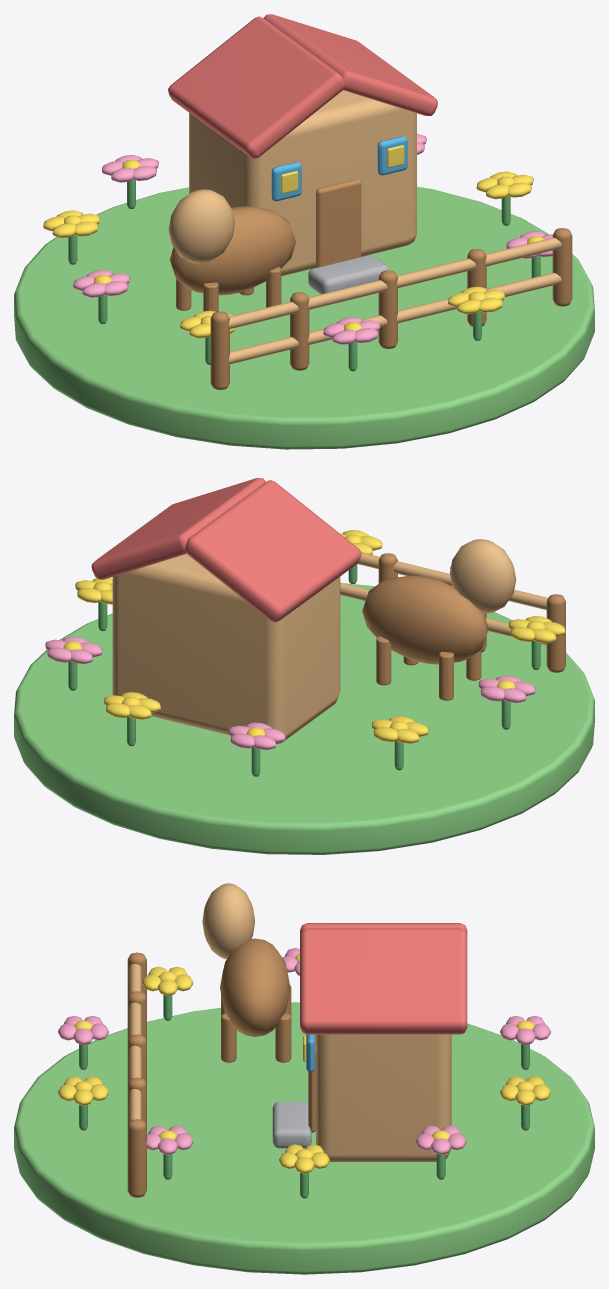
Rendered from region_stable.glb.
The picture shows the model from 3 angles, top to bottom: view 1: azimuth 30°, elevation 25°; view 2: azimuth 150°, elevation 25°; view 3: azimuth 270°, elevation 25°; orthographic projection.
Parts seen in each view (by area): view 1: round grassy plot, rounded plaster walls, overlapping roof tiles, pony torso, overlapping roof tiles.001, paddock rail.001, pony head, arched entry, paddock rail, stone threshold, paddock post, paddock post.004 (+6 smaller); view 2: round grassy plot, rounded plaster walls, overlapping roof tiles, pony torso, overlapping roof tiles.001, pony head, paddock rail.001, paddock post, pony leg.003, pony leg.001, paddock rail; view 3: round grassy plot, overlapping roof tiles.001, rounded plaster walls, pony torso, pony head, stone threshold, paddock rail.001, paddock post.004, overlapping roof tiles, pony leg.003, pony leg.002, paddock post.001 (+3 smaller).
Part boxes in pixels (<box>): round grassy plot: <box>14,186,594,449</box>; rounded plaster walls: <box>189,90,416,276</box>; overlapping roof tiles: <box>168,16,344,158</box>; pony torso: <box>169,206,295,295</box>; overlapping roof tiles.001: <box>263,14,437,115</box>; paddock rail.001: <box>229,237,561,328</box>; pony head: <box>168,189,234,263</box>; arched entry: <box>316,179,361,267</box>; paddock rail: <box>228,272,561,364</box>; stone threshold: <box>308,255,389,294</box>; paddock post: <box>210,311,229,389</box>; paddock post.004: <box>552,228,572,306</box>; round grassy plot: <box>14,583,594,854</box>; rounded plaster walls: <box>112,554,340,743</box>; overlapping roof tiles: <box>185,480,361,622</box>; pony torso: <box>362,575,488,664</box>; overlapping roof tiles.001: <box>91,478,265,579</box>; pony head: <box>449,539,516,613</box>; paddock rail.001: <box>357,552,547,609</box>; paddock post: <box>546,594,565,672</box>; pony leg.003: <box>376,636,391,685</box>; pony leg.001: <box>439,651,453,700</box>; paddock rail: <box>340,582,546,645</box>; round grassy plot: <box>14,1002,594,1274</box>; overlapping roof tiles.001: <box>300,928,467,1034</box>; rounded plaster walls: <box>316,1034,451,1161</box>; pony torso: <box>220,938,290,1036</box>; pony head: <box>202,883,254,959</box>; stone threshold: <box>272,1101,311,1148</box>; paddock rail.001: <box>129,964,141,1122</box>; paddock post.004: <box>127,1119,146,1197</box>; overlapping roof tiles: <box>300,923,467,934</box>; pony leg.003: <box>275,1013,291,1062</box>; pony leg.002: <box>221,1013,236,1062</box>; paddock post.001: <box>127,991,146,1041</box>.
Bounding box in the file's own units: 3.3 × 1.54 × 3.3.
